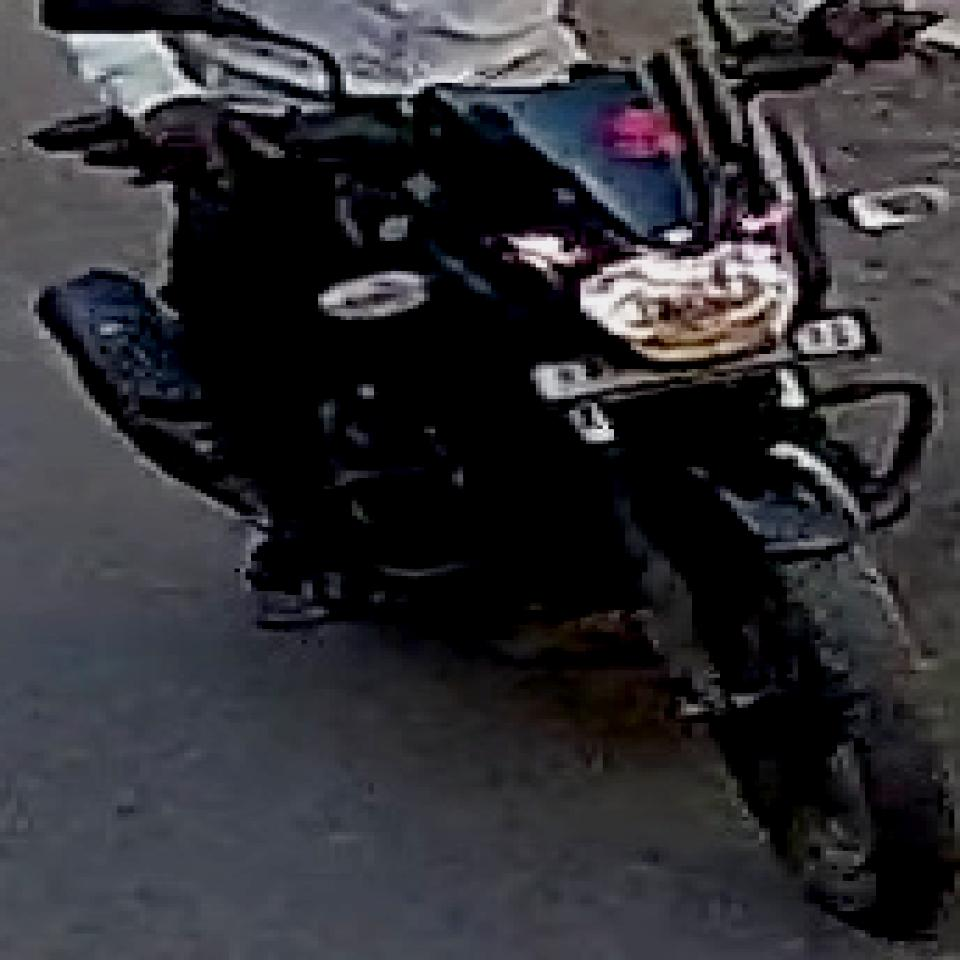head_light: (501, 172, 800, 364)
